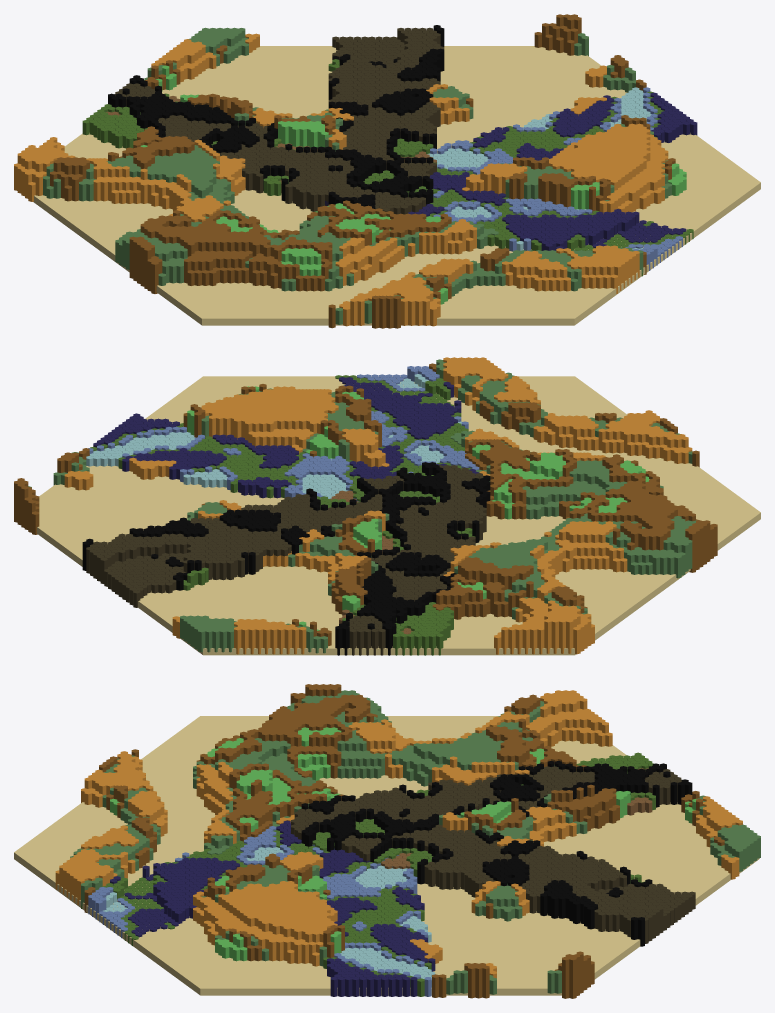
The model's file is 0010_tile_1221100.fbx.
3 renders of one model, top to bottom at view 1: azimuth 30°, elevation 25°; view 2: azimuth 150°, elevation 25°; view 3: azimuth 270°, elevation 25°, orthographic.
Parts seen in each view (by area): view 1: Plane; view 2: Plane; view 3: Plane.
Boxes of the visible parts, x1,y1,x2,y2 form: Plane: (14,14,760,328); Plane: (14,357,760,655); Plane: (14,684,760,998).
Size of the model in its own units: 1008 by 65.76 by 1152.
